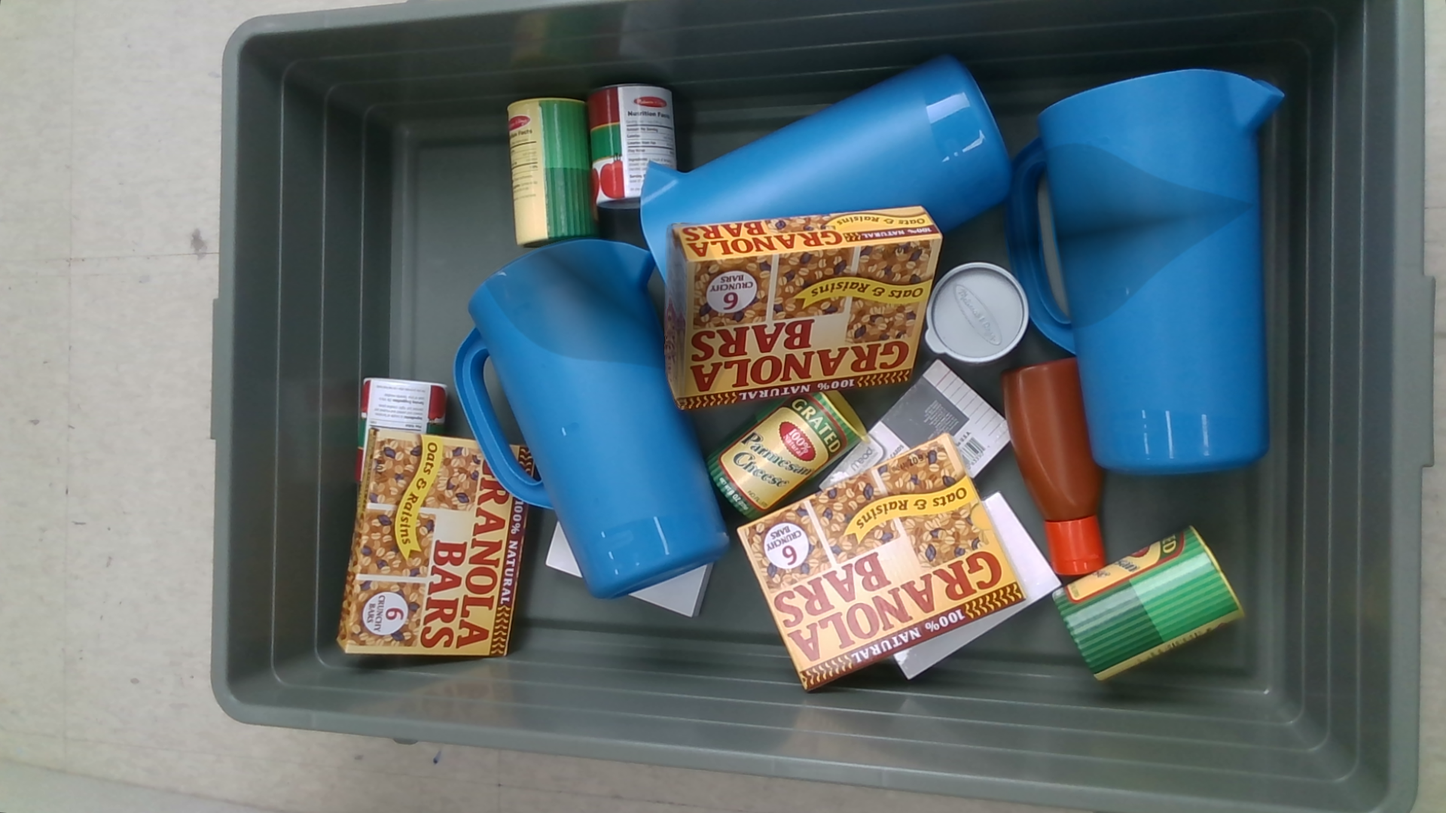defect: (485, 222, 745, 408), (1002, 143, 1253, 329)
